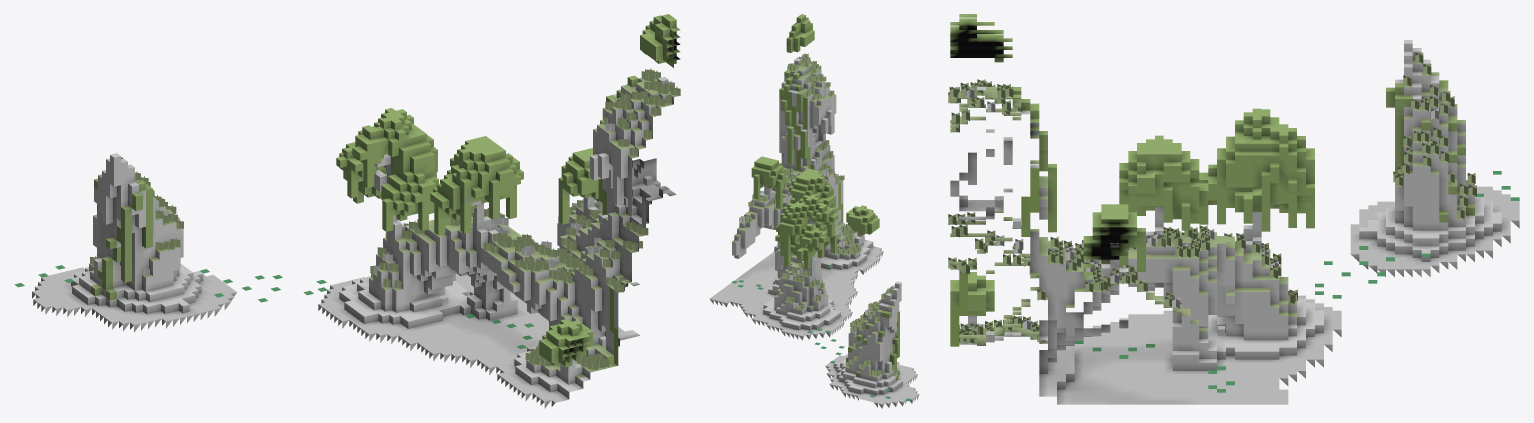
3 renders of one model, left to right at view 1: azimuth 30°, elevation 25°; view 2: azimuth 150°, elevation 25°; view 3: azimuth 270°, elevation 25°, orthographic. The views are drawn at different scales.
Parts seen in each view (by area): view 1: opaco, recorte; view 2: recorte, opaco; view 3: recorte, opaco.
Boxes of the visible parts, bbox=[...] form: opaco: bbox=[32, 76, 676, 408]; recorte: bbox=[14, 14, 680, 385]; recorte: bbox=[731, 14, 910, 401]; opaco: bbox=[709, 58, 919, 408]; recorte: bbox=[948, 14, 1519, 392]; opaco: bbox=[950, 40, 1519, 404].
Bounding box in the file's own units: 60.2 × 49 × 64.2.
